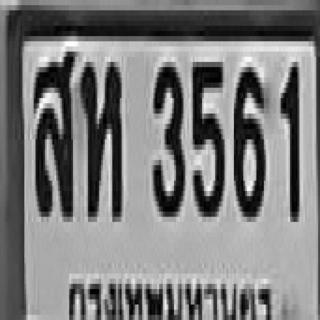A40: (32, 44, 73, 214)
A41: (80, 57, 120, 217)
N01: (279, 57, 298, 217)
N03: (152, 57, 183, 212)
N05: (191, 57, 223, 212)
N06: (232, 62, 264, 212)
